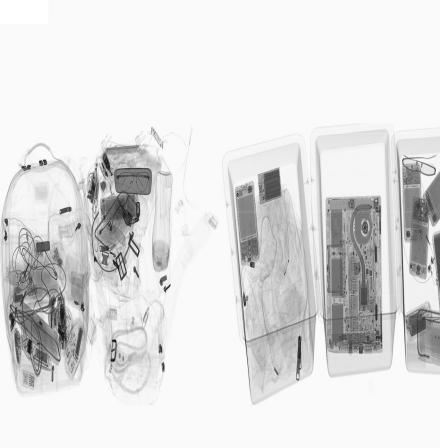Powerbank: (257, 167, 282, 204)
